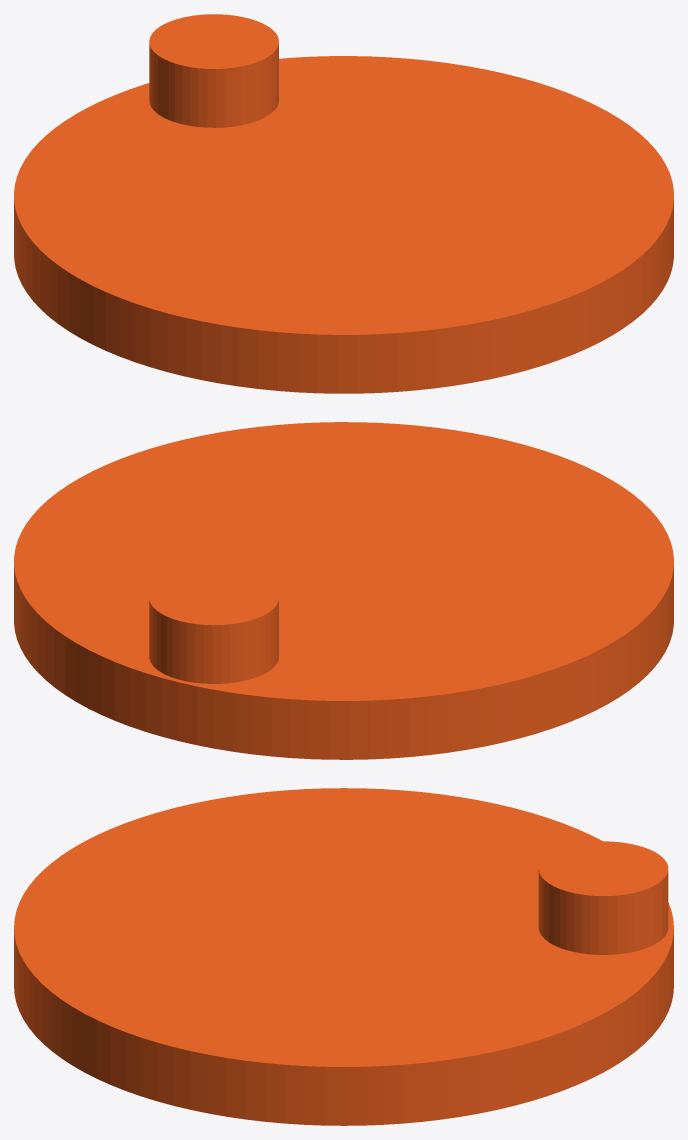
3 renders of one model, top to bottom at view 1: azimuth 30°, elevation 25°; view 2: azimuth 150°, elevation 25°; view 3: azimuth 270°, elevation 25°, orthographic.
Size of the model in its own units: 102 by 30 by 102.
